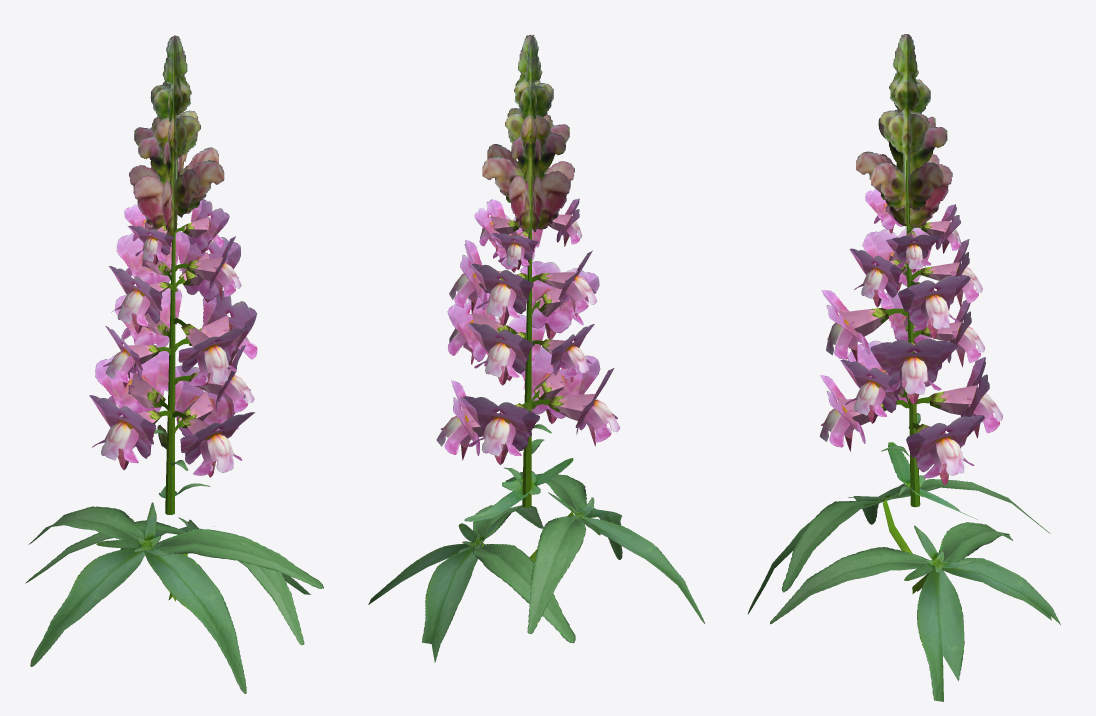
3 renders of one model, left to right at view 1: azimuth 30°, elevation 25°; view 2: azimuth 150°, elevation 25°; view 3: azimuth 270°, elevation 25°, orthographic. The views are drawn at different scales.
Parts seen in each view (by area): view 1: b4a95a86; view 2: b4a95a86; view 3: b4a95a86.
Boxes of the visible parts, x1=… form: b4a95a86: x1=25, y1=35, x2=323, y2=693; b4a95a86: x1=368, y1=34, x2=704, y2=662; b4a95a86: x1=748, y1=34, x2=1060, y2=701.
Size of the model in its own units: 0.1383 by 0.2559 by 0.1286.
Materials: 1 (1 with a texture image).
